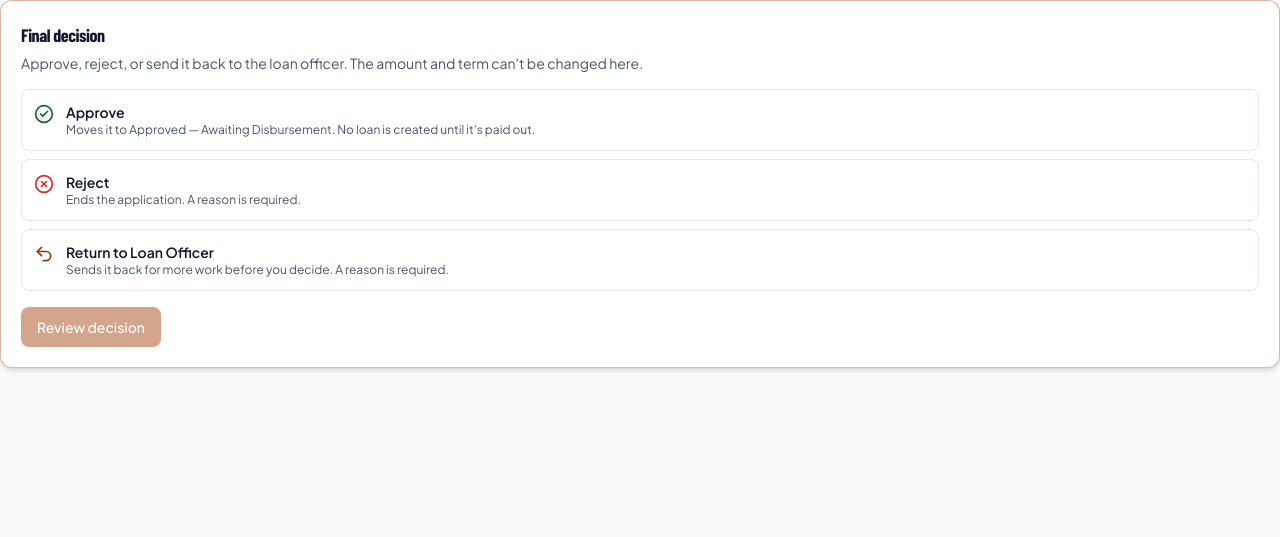
Test: FinalDecisionPanel › requires a note to approve against a recommendation to reject
The width and height of the screenshot is (1280, 537).
Click the radio button labelled "Approve" at (95, 112), box [21,89,1259,151]
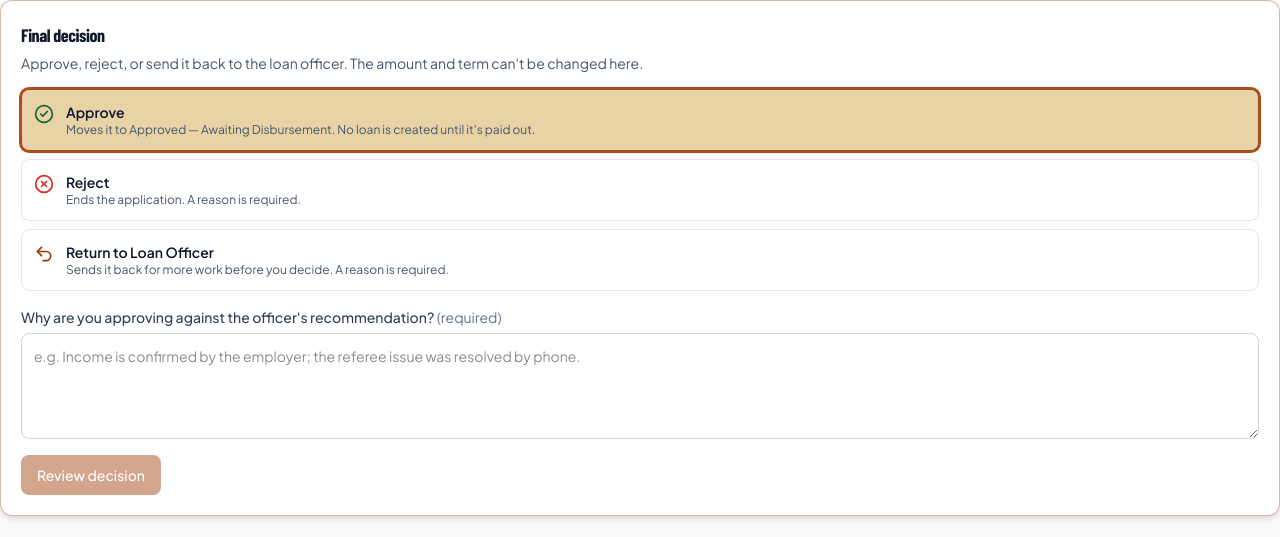
Expected: the button "Review decision" is disabled, [21,455,161,495]
Result: the text box labelled "Why are you approving against the officer's recommendation" is shown at [21,333,1259,439]
